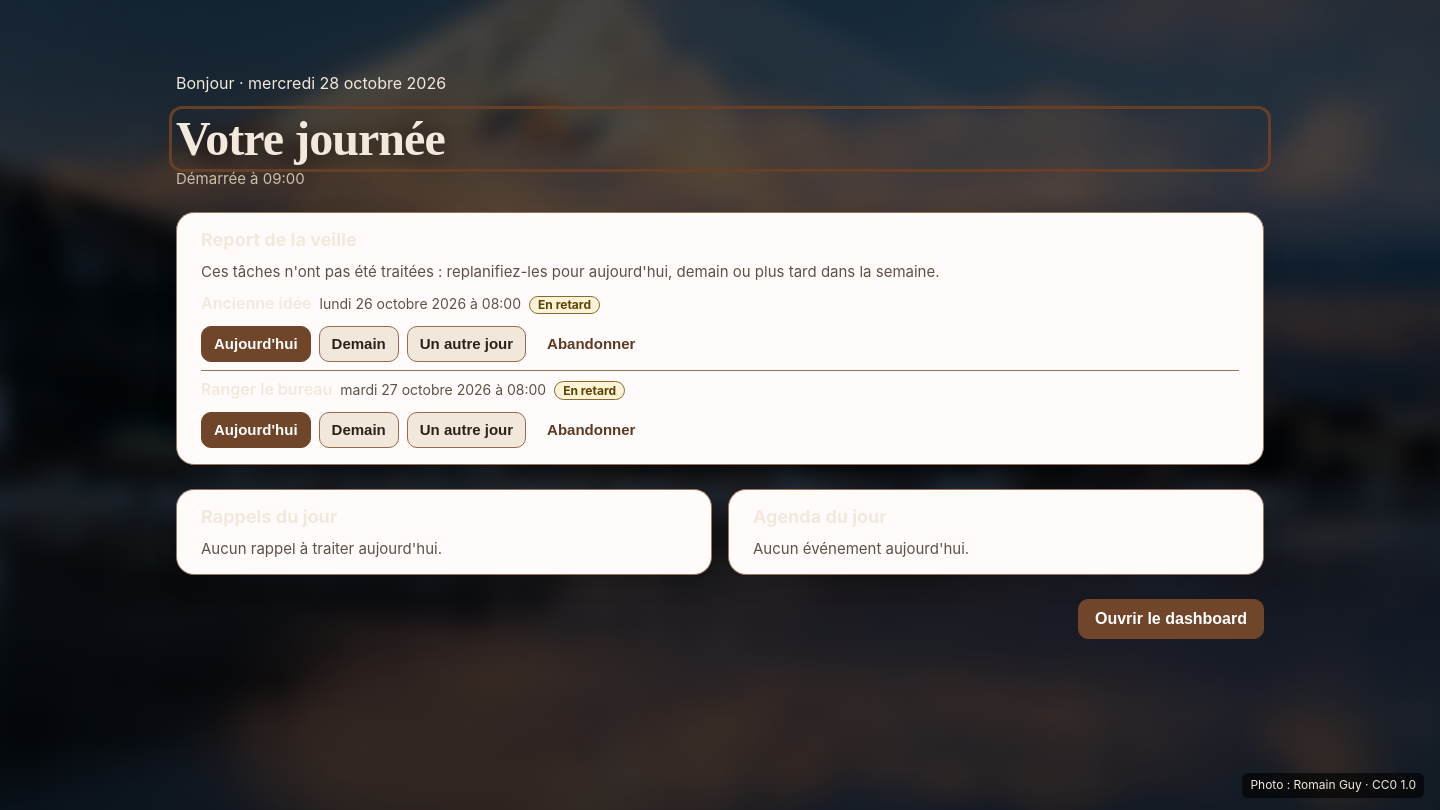
it: parcours complet de l'étape (a) › replanifie un reste de la veille pour aujourd'hui depuis l'accueil
Earlier steps of the test are not shown.
Click the button with aria-label "Replanifier aujourd'hui : Ranger le bureau".
click(256, 430)  # box [201, 412, 311, 448]
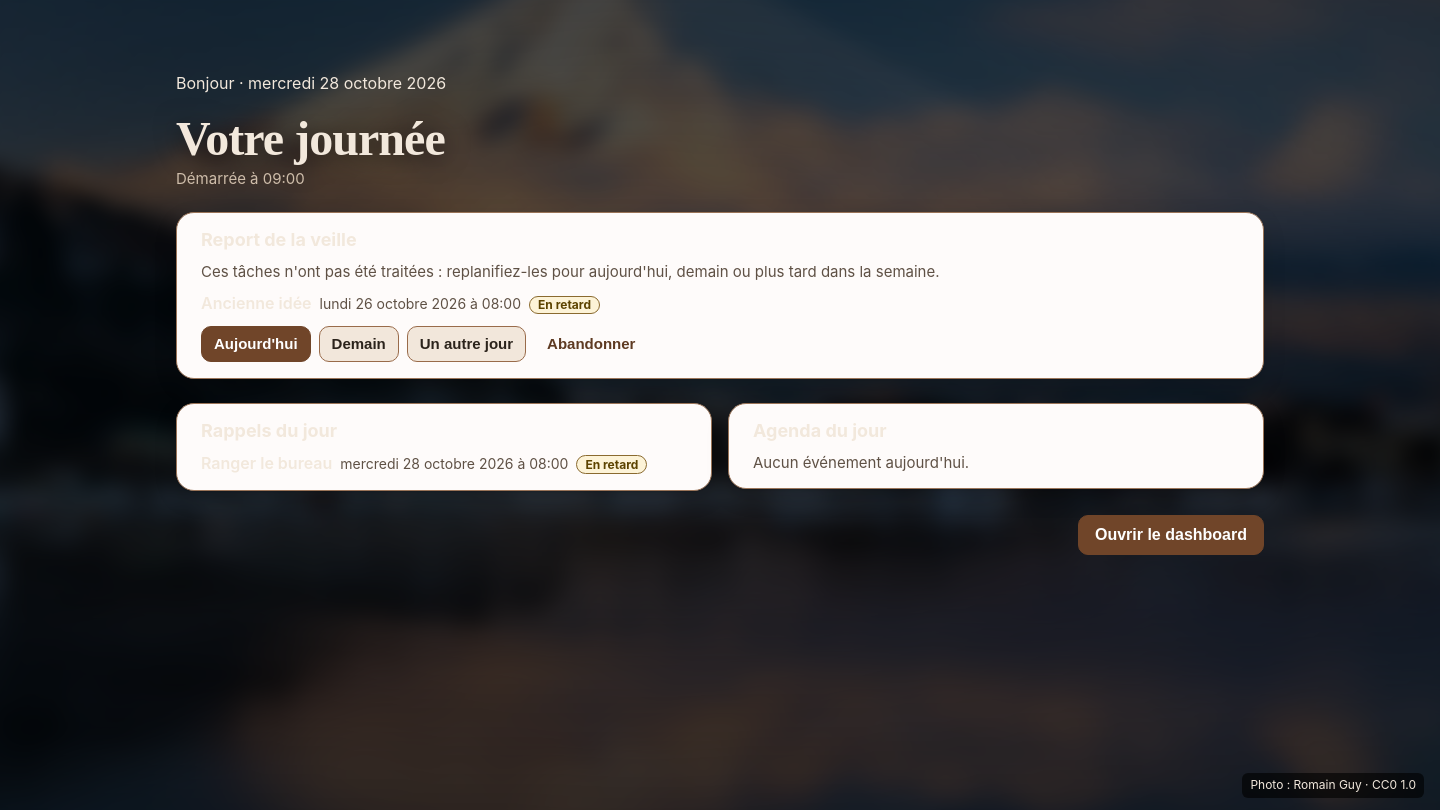
Check: the text "Ancienne idée" is shown, box [201, 294, 312, 314]
Check: the text "Ranger le bureau" is shown, box [201, 453, 332, 473]
Click the button with aria-label "Abandonner : Ancienne idée".
click(591, 344)  # box [534, 326, 648, 362]
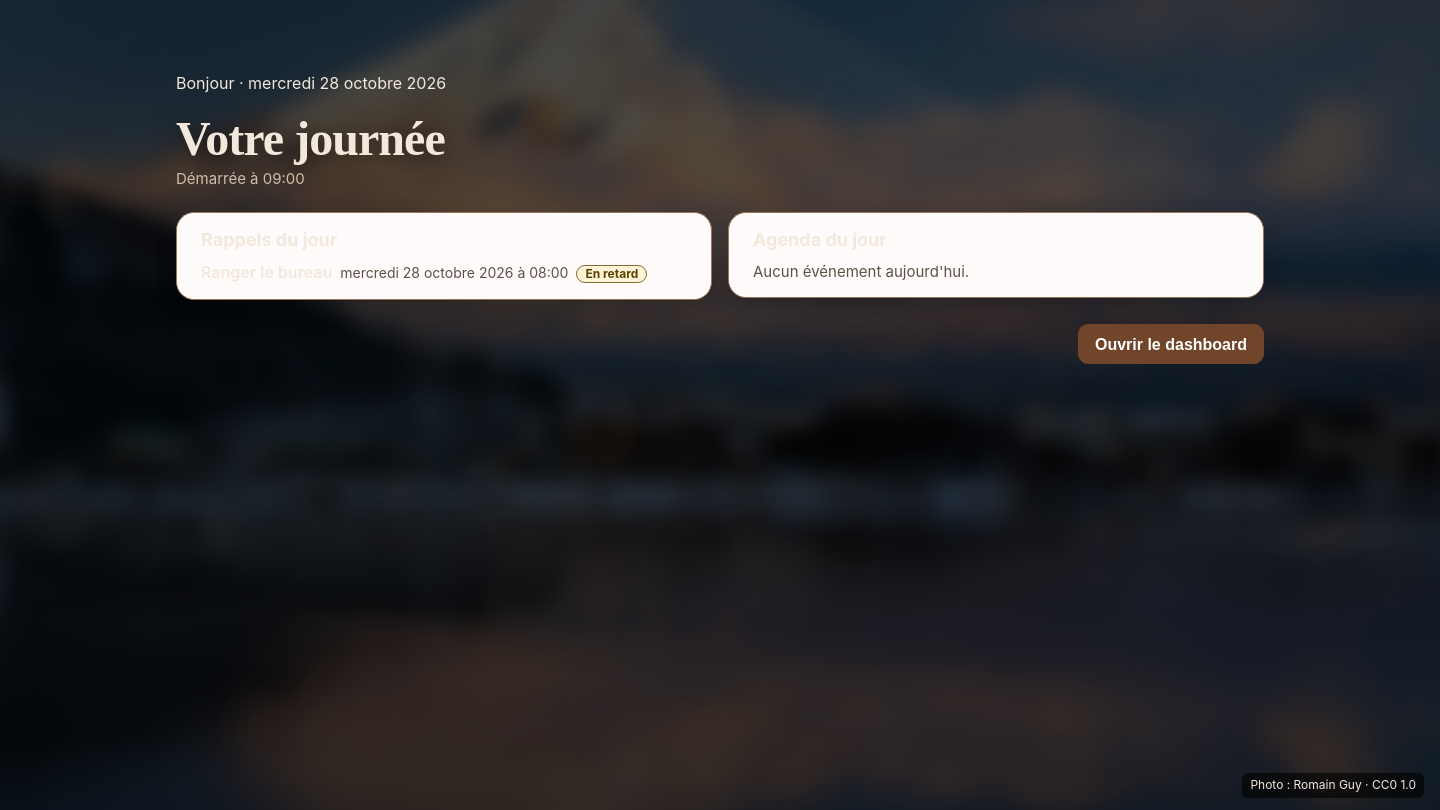
Check: the heading "Rappels du jour" is shown, box [201, 230, 337, 250]
Check: the heading "Report de la veille" is gone
